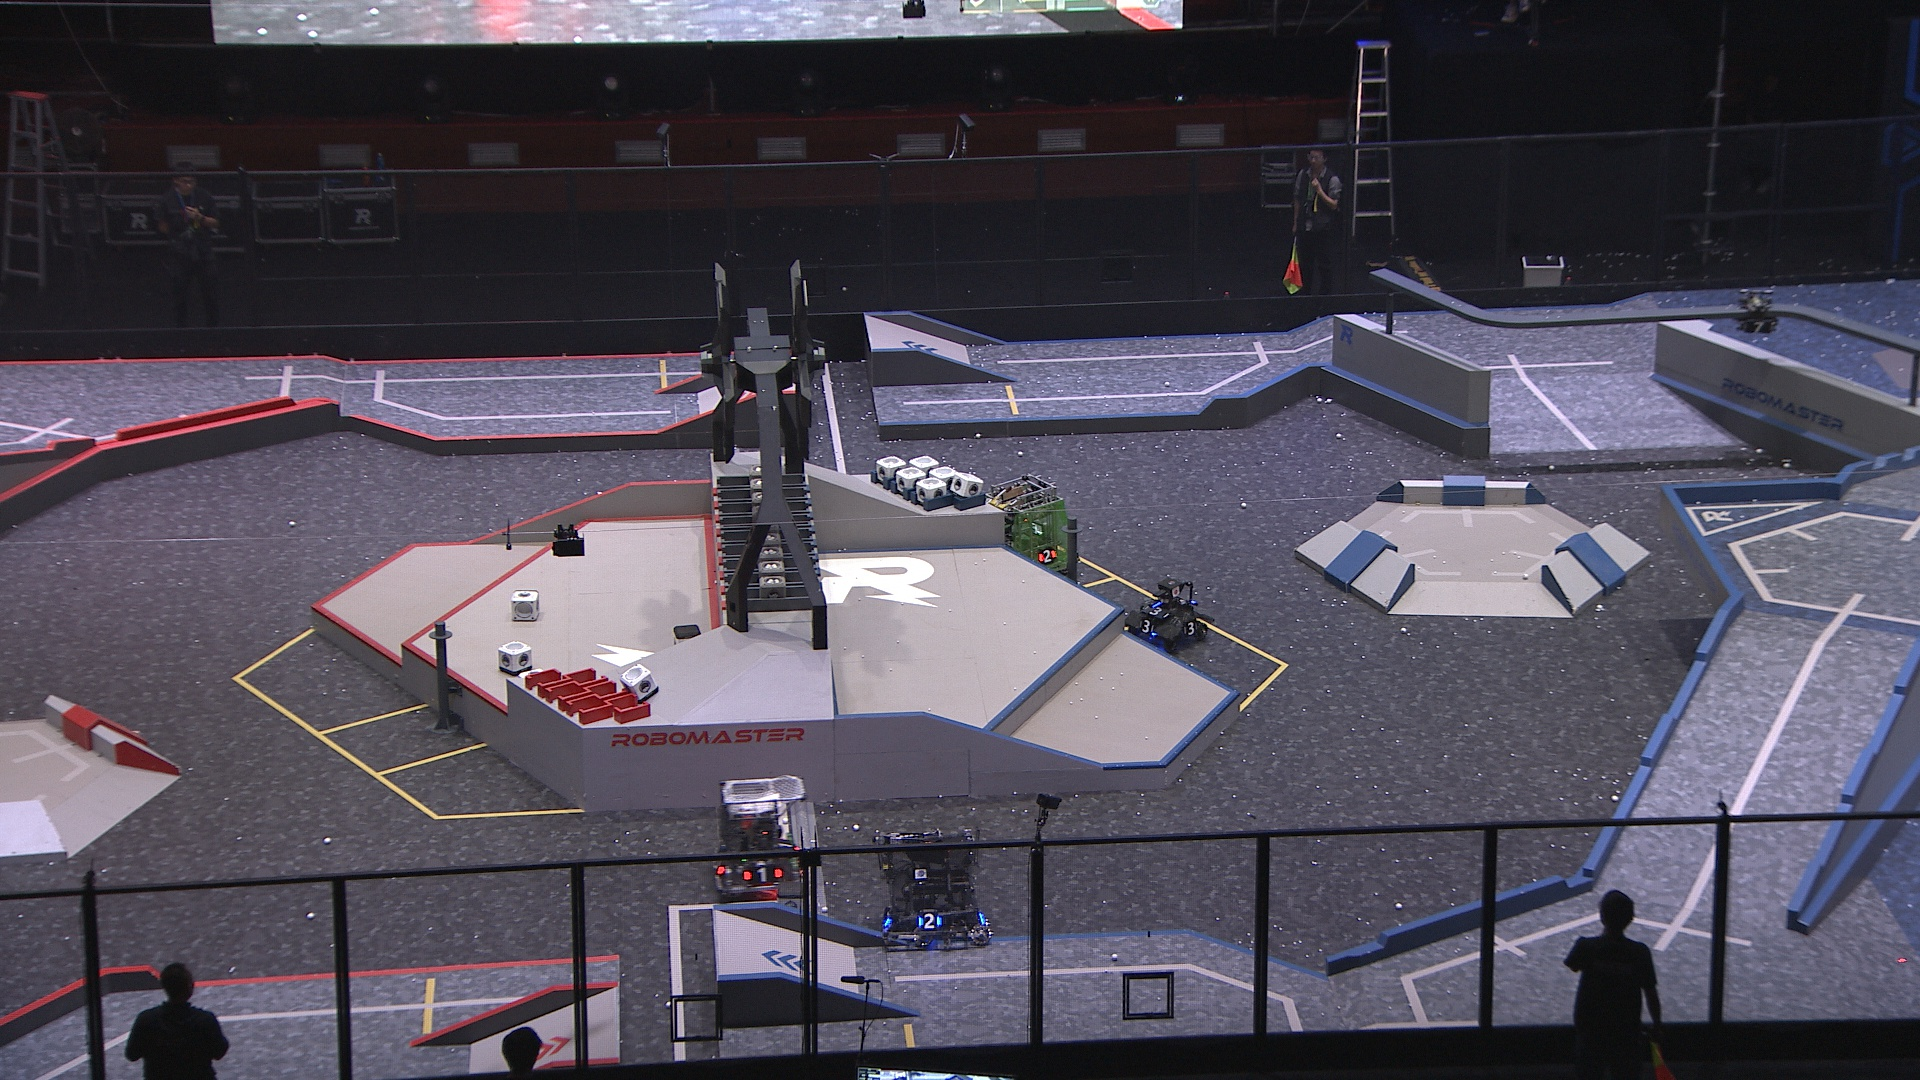armor: (740, 865, 783, 884), (916, 913, 944, 931), (1143, 603, 1171, 618), (1742, 319, 1771, 334), (1135, 617, 1155, 636), (1036, 549, 1059, 564), (1183, 618, 1197, 637)
car: (872, 822, 993, 949), (707, 774, 822, 903), (973, 472, 1077, 578), (1121, 574, 1212, 655)
watcher: (1731, 286, 1780, 338)
